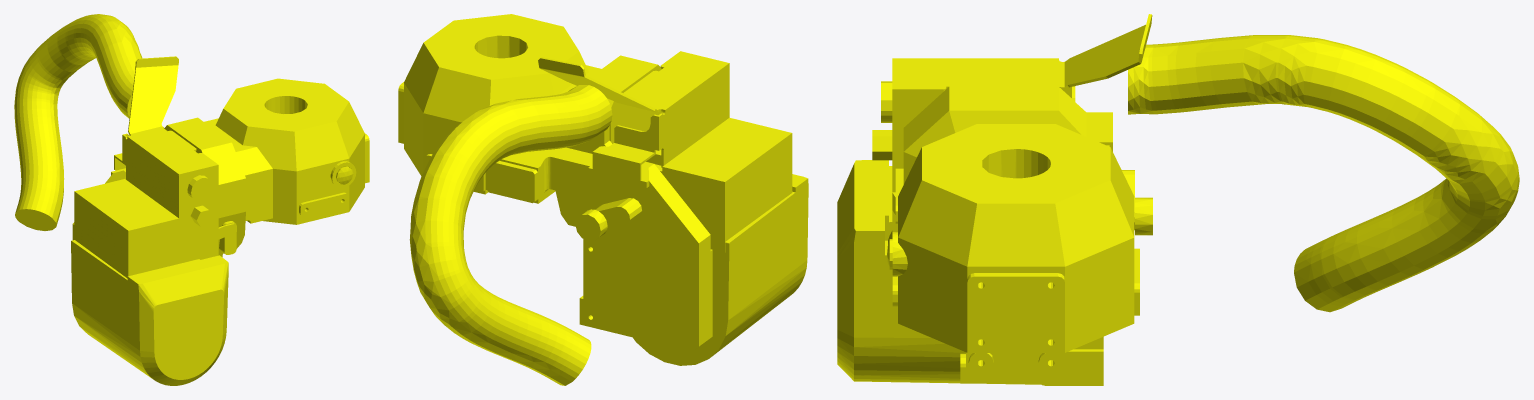
3 renders of one model, left to right at view 1: azimuth 30°, elevation 25°; view 2: azimuth 150°, elevation 25°; view 3: azimuth 270°, elevation 25°, orthographic. The views are drawn at different scales.
Visible parts, largest first — view 1: node; view 2: node; view 3: node.
Boxes of the visible parts, box(x1,y1,x2,y2) form: node: box(14, 14, 369, 385); node: box(398, 14, 808, 385); node: box(837, 14, 1519, 385).
Bounding box in the file's own units: 356 × 316 × 488.
